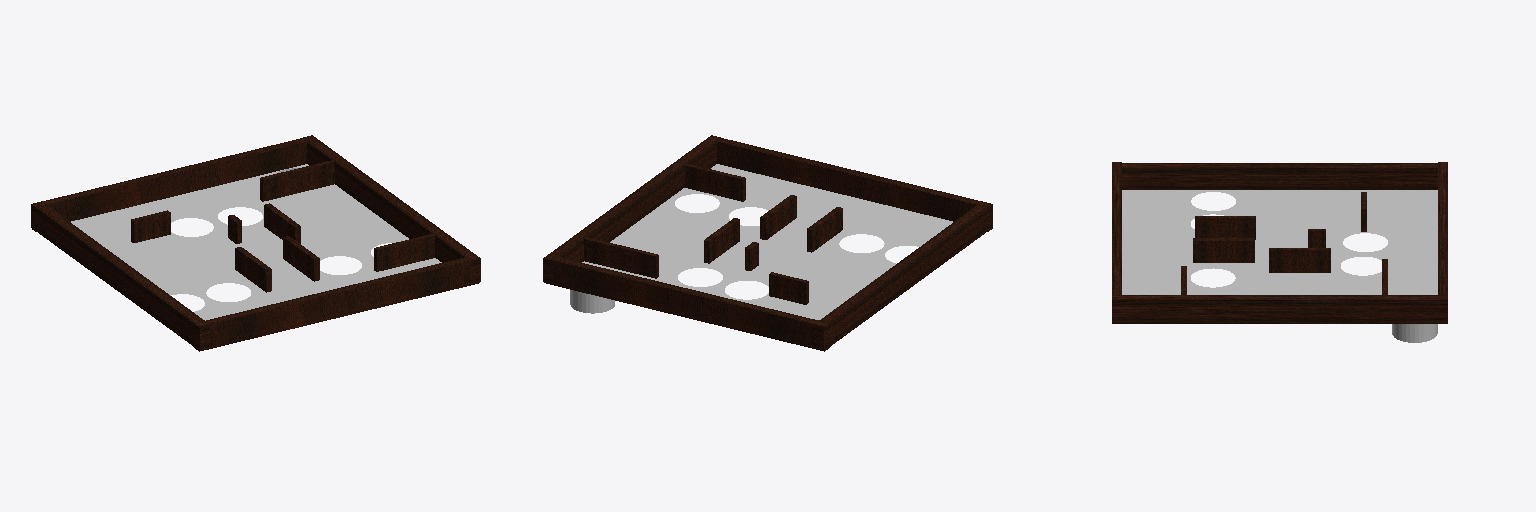
The picture shows the model from 3 angles: view 1: azimuth 30°, elevation 25°; view 2: azimuth 150°, elevation 25°; view 3: azimuth 270°, elevation 25°; orthographic projection.
Parts seen in each view (by area): view 1: Cube, Plane, Cube.001, Cube.003, Cube.004, Cube.002, Cube.005, Cube.006; view 2: Cube, Plane, Cube.001, Cube.003, Cube.002, Cube.005, Cube.006, Cube.004; view 3: Plane, Cube, Cube.005, Cube.006, Cube.004.
Part boxes in pixels (x1,y1,x2,y2): Cube: (31, 135, 480, 351); Plane: (71, 164, 441, 320); Cube.001: (260, 160, 334, 201); Cube.003: (374, 234, 434, 271); Cube.004: (235, 247, 271, 292); Cube.002: (131, 210, 170, 242); Cube.005: (283, 236, 319, 281); Cube.006: (264, 203, 300, 243); Cube: (543, 135, 992, 351); Plane: (570, 164, 952, 319); Cube.001: (584, 237, 658, 278); Cube.003: (685, 164, 745, 201); Cube.002: (769, 272, 808, 304); Cube.005: (760, 195, 796, 239); Cube.006: (704, 218, 739, 263); Cube.004: (807, 207, 842, 252); Plane: (1122, 190, 1437, 342); Cube: (1112, 162, 1447, 323); Cube.005: (1193, 238, 1254, 262); Cube.006: (1269, 248, 1330, 272); Cube.004: (1195, 216, 1255, 239).
Bounding box in the file's own units: 14.35 × 2.43 × 14.87.
Materials: 10 (1 with a texture image).